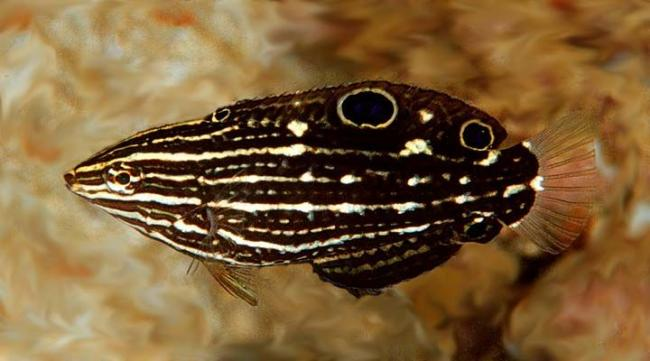fish: (63, 76, 598, 307)
